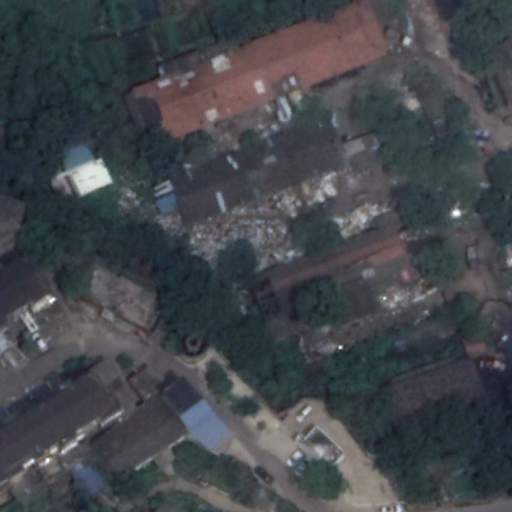msw: (180, 171, 396, 275)
